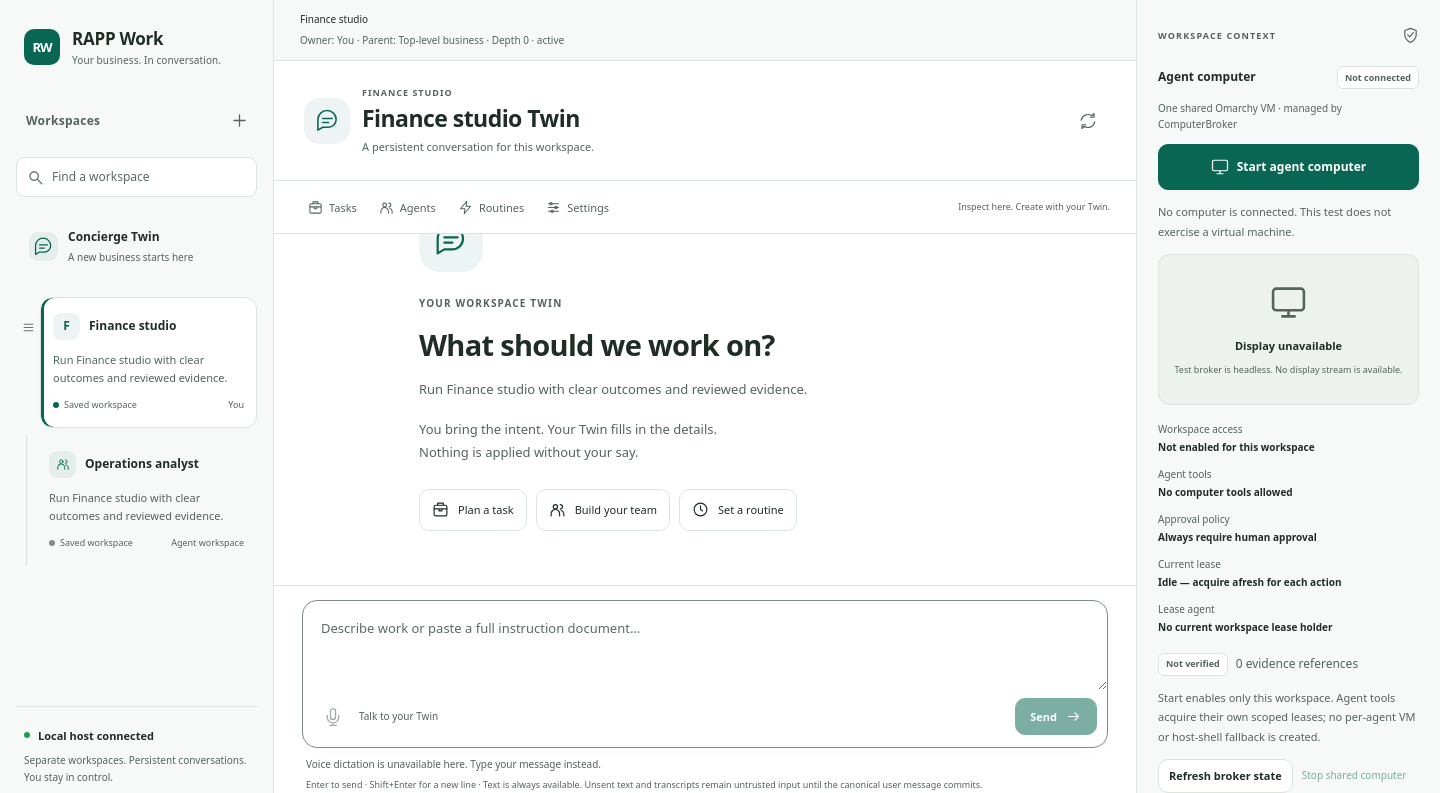
Test: conversation-first business workspaces › drafts and prefills Review supplier invoices tomorrow.
(page scrolled)
expect the text "Local host connected" is shown: met, box [38, 727, 154, 744]
Type "Review supplier invoices tomorrow." into the text box named "Message your Work Twin" at [705, 645], box [303, 601, 1107, 690]
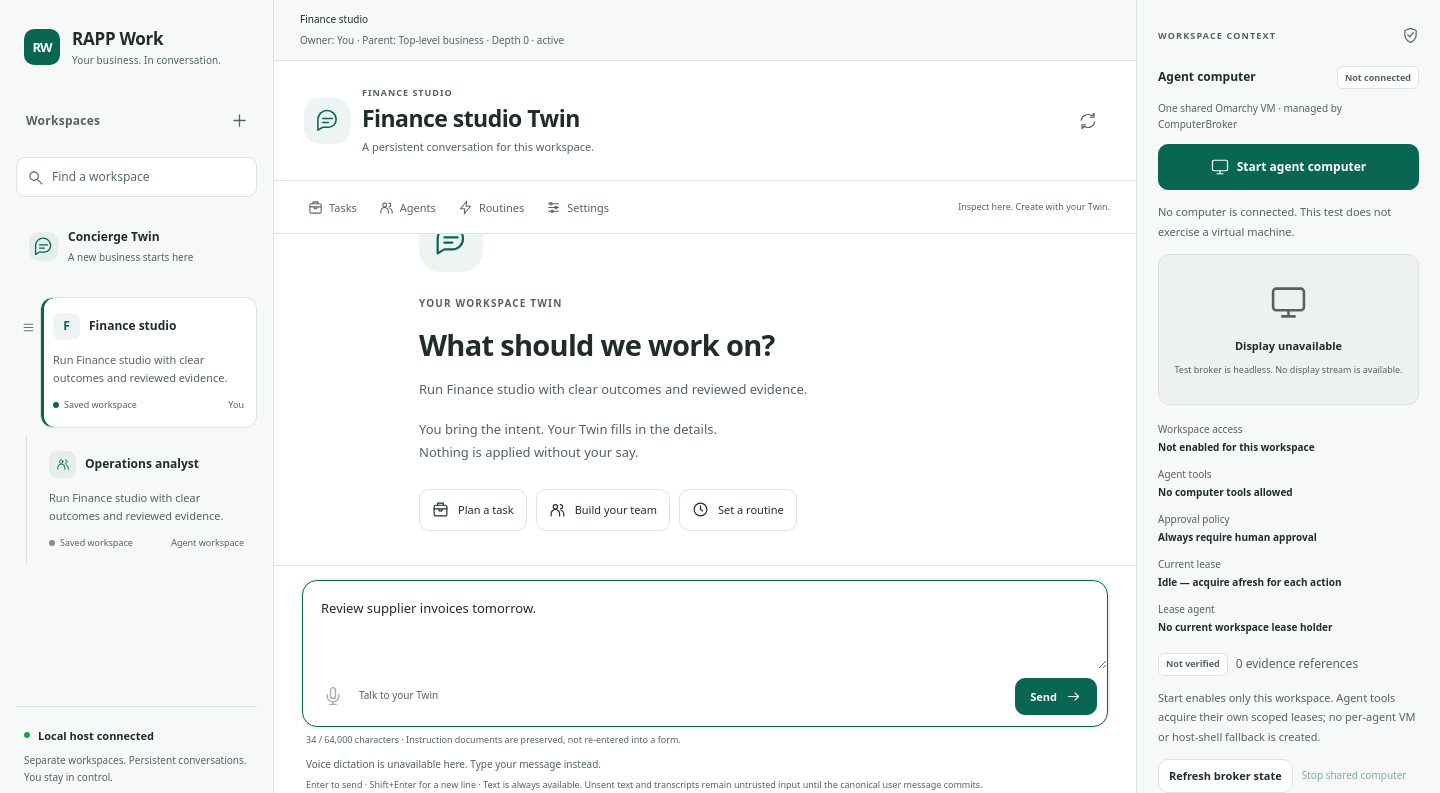
expect the button "Send" is enabled: met
Click the button "Send" at [1056, 696], box [1015, 678, 1097, 715]
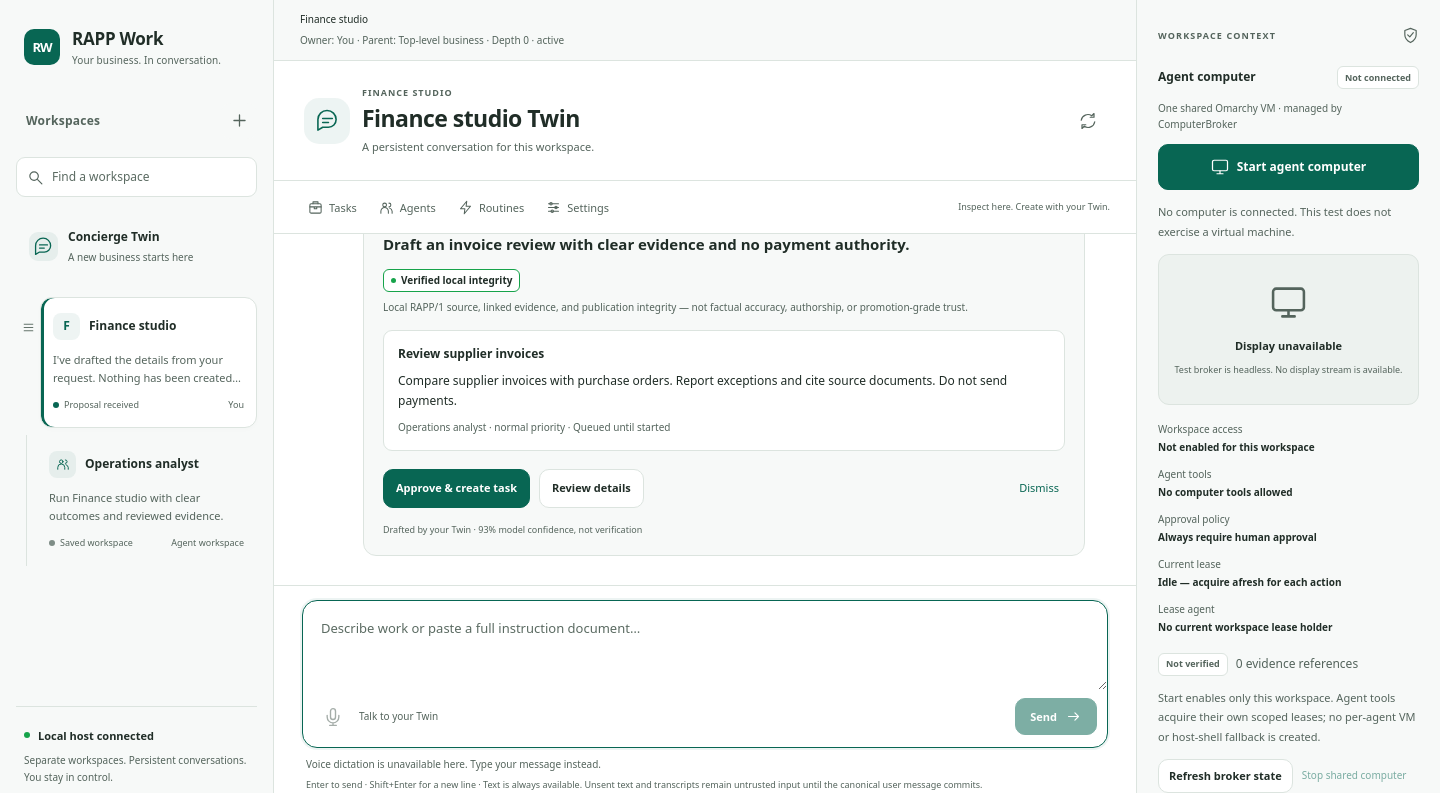
Click the button "Review details" at [591, 488], box [539, 468, 644, 508]
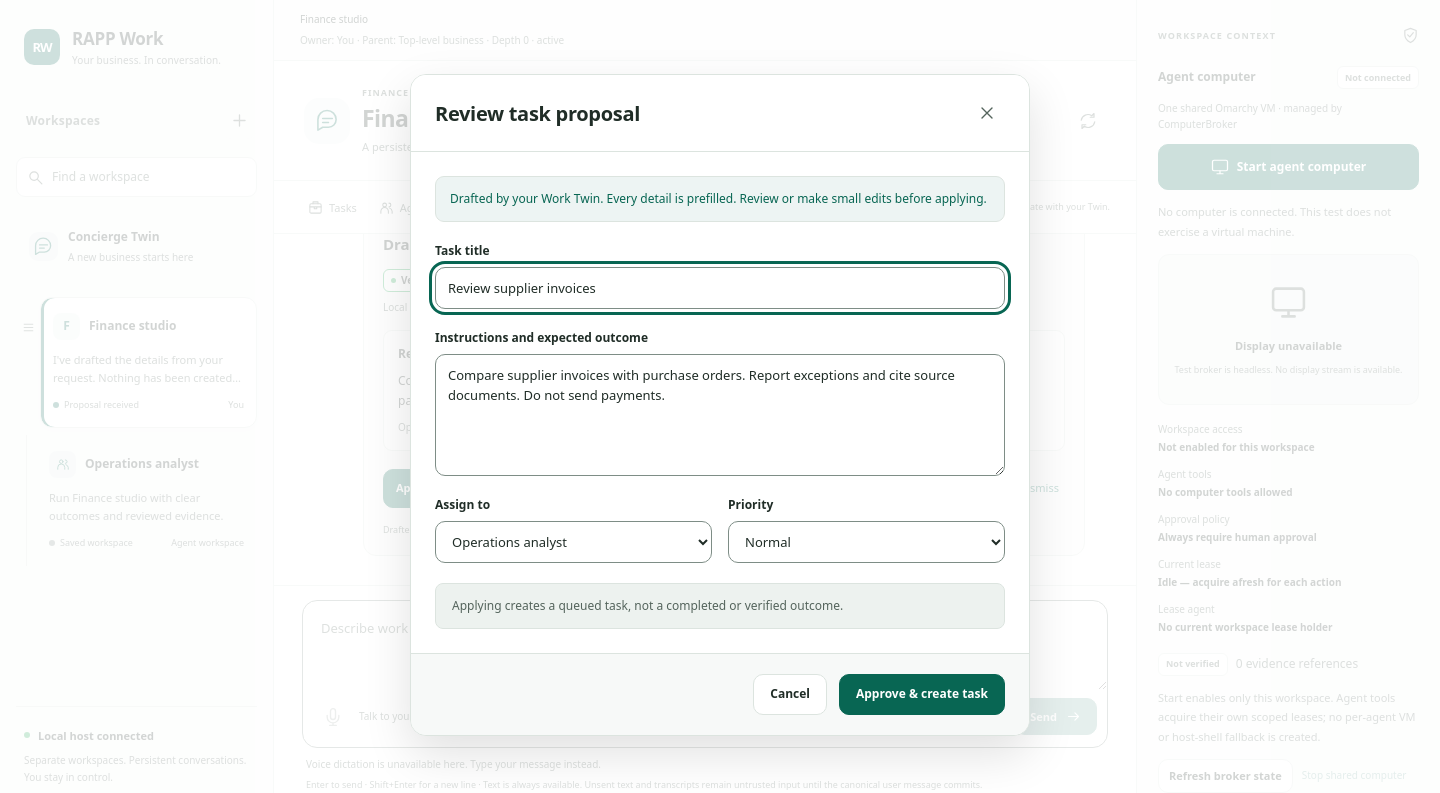
expect the field labelled "Task title" holds "Review supplier invoices": met, box [435, 267, 1005, 309]
expect the field labelled "Task title" is not empty: met, box [435, 267, 1005, 309]
expect the text box labelled "Instructions and expected outcome" is not empty: met, box [435, 354, 1005, 476]
Click the button "Approve & create task" at [922, 695], box [839, 674, 1005, 715]
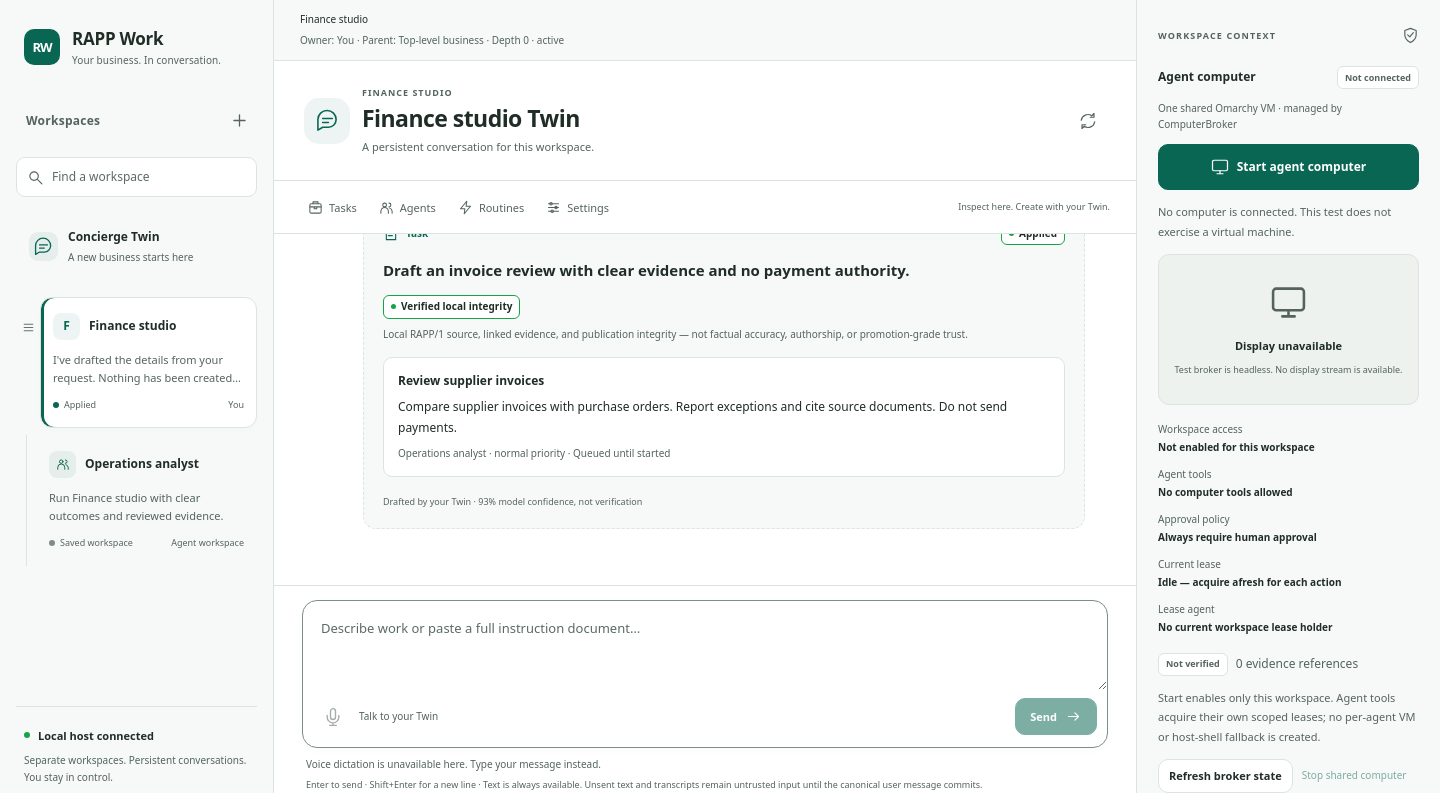
expect the dialog is gone: met
